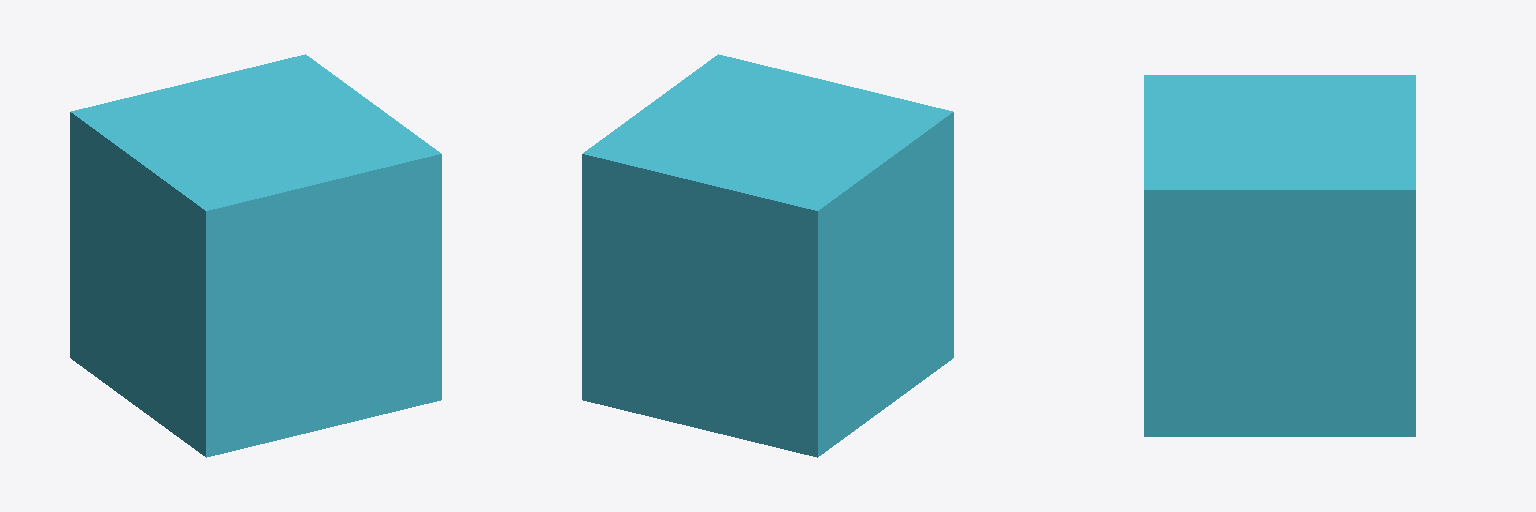
The picture shows the model from 3 angles: view 1: azimuth 30°, elevation 25°; view 2: azimuth 150°, elevation 25°; view 3: azimuth 270°, elevation 25°; orthographic projection.
Parts seen in each view (by area): view 1: Cube; view 2: Cube; view 3: Cube.
Part boxes in pixels (x1,y1,x2,y2): Cube: (70, 54, 441, 457); Cube: (582, 54, 953, 457); Cube: (1144, 75, 1415, 436).
Size of the model in its own units: 2 by 2 by 2.
1 materials, 1 textured.